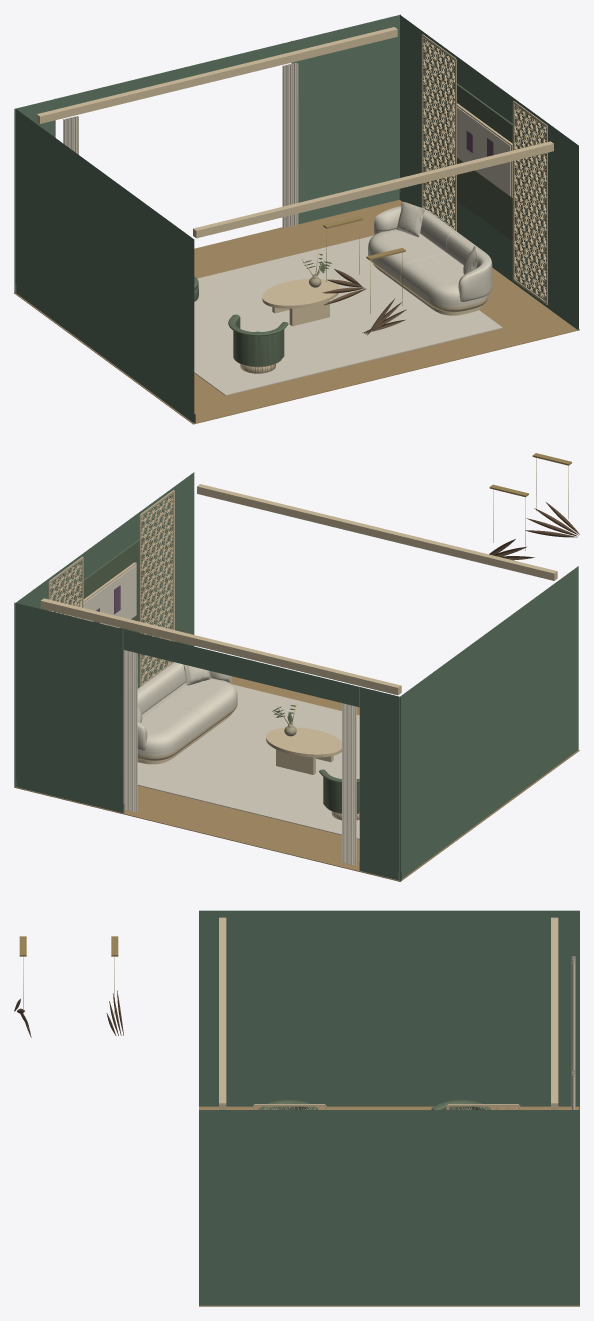
File: great-1.glb
3 views of the same model, one above another, from view 1: azimuth 30°, elevation 25°; view 2: azimuth 150°, elevation 25°; view 3: azimuth 270°, elevation 25° (orthographic). The views are drawn at different scales.
Visible parts, largest first — view 1: DESIGN | great removable wall finish, DESIGN | Great room primary ground, DESIGN | great floor finish, DESIGN | Great room sofa facing conversation, DESIGN | Kumiko | Great room vertical garden boundary, DESIGN | Garden salon fabric wall field, DESIGN | Kumiko | Great room vertical garden boundary.001, DESIGN | Garden salon perimeter timber.001, DESIGN | Garden salon perimeter timber, DESIGN | Great room soft window edge.001, DESIGN | Textile artwork.002, DESIGN | Required Bellustar swivel chair one (+3 smaller); view 2: DESIGN | great removable wall finish, DESIGN | Great room primary ground, DESIGN | great floor finish, DESIGN | Great room sofa facing conversation, DESIGN | Kumiko | Great room vertical garden boundary, DESIGN | Garden salon perimeter timber.001, DESIGN | Garden salon perimeter timber, DESIGN | Great room soft window edge, DESIGN | Great room soft window edge.001, DESIGN | Garden salon fabric wall field, DESIGN | Great room conversation table top, DESIGN | Textile artwork.002 (+4 smaller); view 3: DESIGN | great removable wall finish, DESIGN | great floor finish, DESIGN | Garden salon perimeter timber, DESIGN | Garden salon perimeter timber.001, DESIGN | Great room soft window edge.
Boxes of the visible parts, x1,y1,x2,y2 form: DESIGN | great removable wall finish: [14, 14, 578, 423]; DESIGN | Great room primary ground: [194, 235, 502, 395]; DESIGN | great floor finish: [14, 200, 579, 424]; DESIGN | Great room sofa facing conversation: [368, 202, 492, 315]; DESIGN | Kumiko | Great room vertical garden boundary: [512, 101, 547, 304]; DESIGN | Garden salon fabric wall field: [434, 69, 534, 255]; DESIGN | Kumiko | Great room vertical garden boundary.001: [421, 34, 456, 231]; DESIGN | Garden salon perimeter timber.001: [36, 27, 397, 123]; DESIGN | Garden salon perimeter timber: [193, 141, 553, 238]; DESIGN | Great room soft window edge.001: [282, 62, 298, 228]; DESIGN | Textile artwork.002: [450, 104, 510, 195]; DESIGN | Required Bellustar swivel chair one: [228, 314, 288, 373]; DESIGN | great removable wall finish: [14, 472, 578, 880]; DESIGN | Great room primary ground: [137, 684, 359, 839]; DESIGN | great floor finish: [14, 676, 579, 881]; DESIGN | Great room sofa facing conversation: [137, 662, 237, 764]; DESIGN | Kumiko | Great room vertical garden boundary: [139, 490, 174, 686]; DESIGN | Garden salon perimeter timber.001: [40, 598, 401, 695]; DESIGN | Garden salon perimeter timber: [197, 484, 557, 580]; DESIGN | Great room soft window edge: [342, 703, 356, 866]; DESIGN | Great room soft window edge.001: [123, 650, 137, 812]; DESIGN | Garden salon fabric wall field: [54, 532, 152, 657]; DESIGN | Great room conversation table top: [266, 727, 341, 757]; DESIGN | Textile artwork.002: [78, 565, 136, 627]; DESIGN | great removable wall finish: [199, 910, 579, 1305]; DESIGN | great floor finish: [199, 1106, 579, 1306]; DESIGN | Garden salon perimeter timber: [219, 917, 226, 1109]; DESIGN | Garden salon perimeter timber.001: [551, 917, 558, 1109]; DESIGN | Great room soft window edge: [571, 956, 575, 1070].
Size of the model in its own units: 6 by 3.04 by 7.16.
